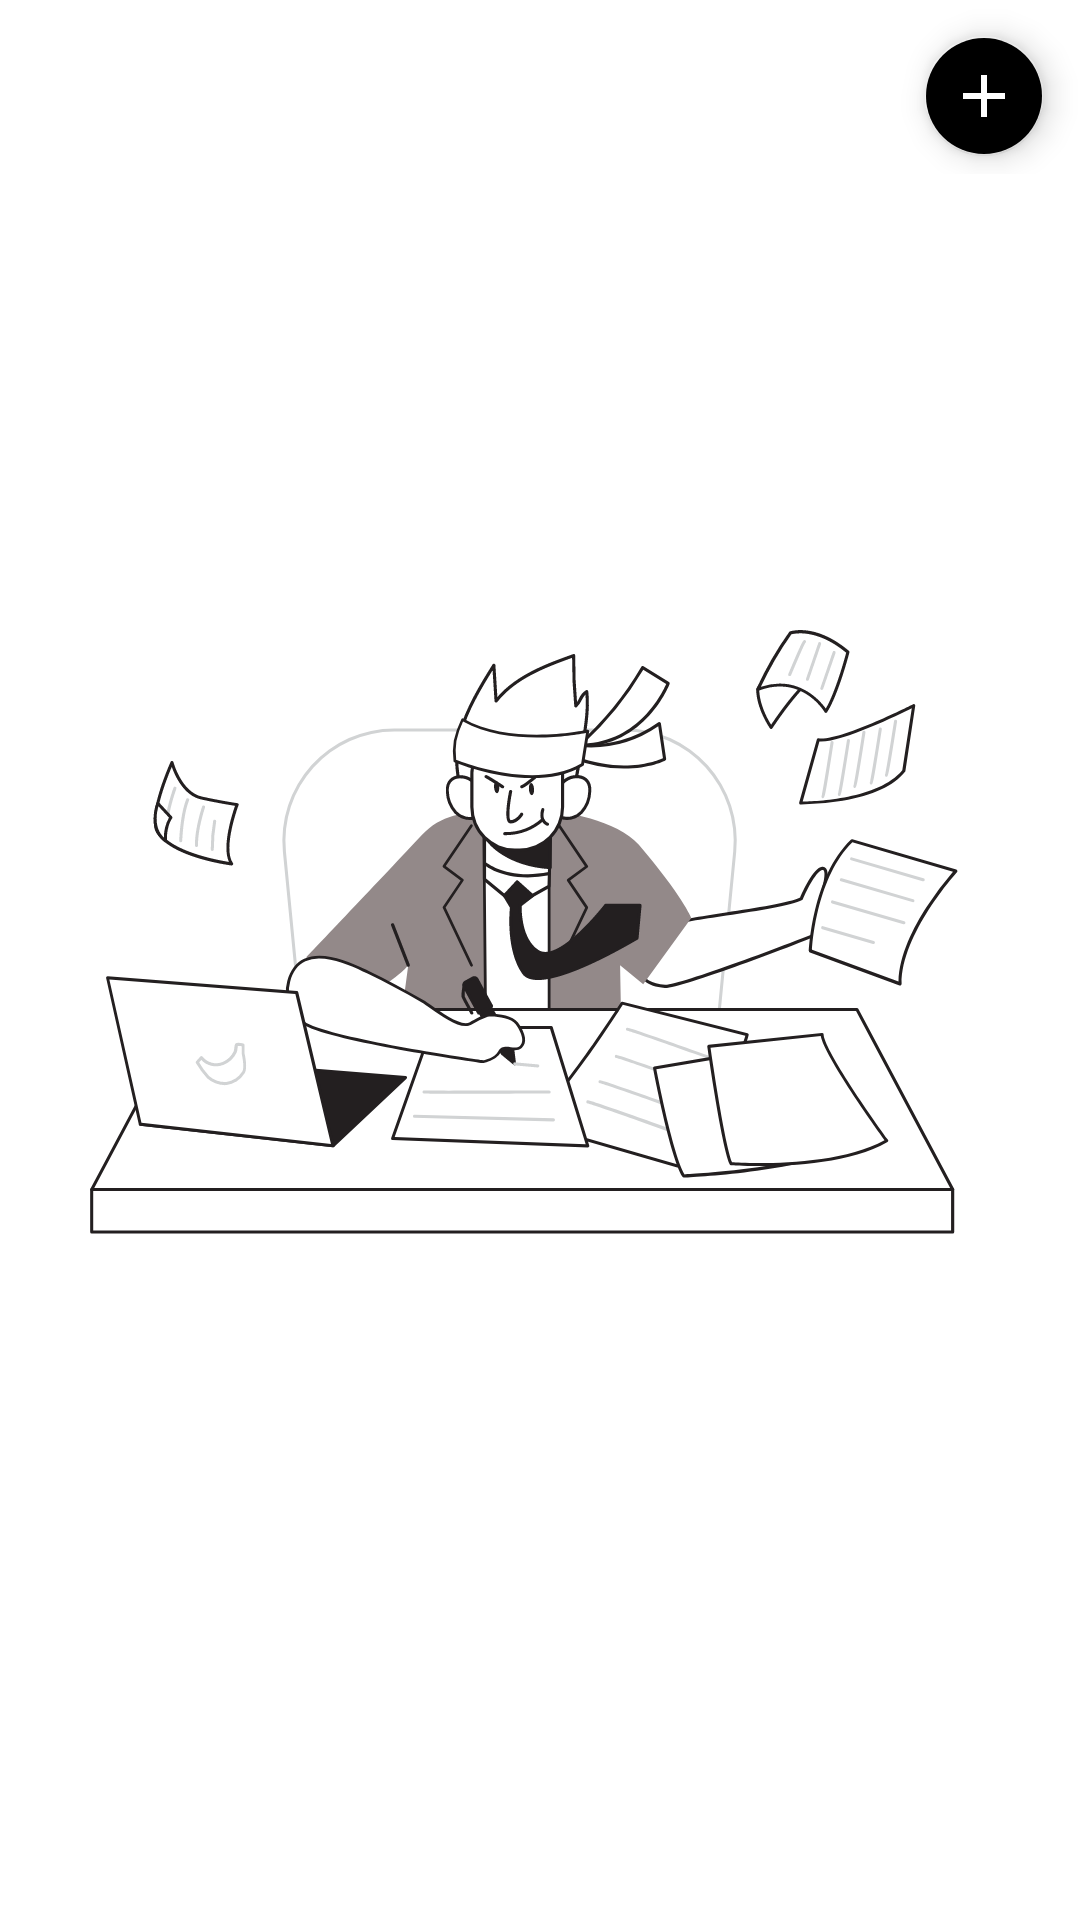

Icon bounding boxes for this 1080w x 1920h phone screenshot, format [x1=x1, y1=y1, x2=x2, y2=y2]:
icadd: [x1=926, y1=38, x2=1046, y2=156]
